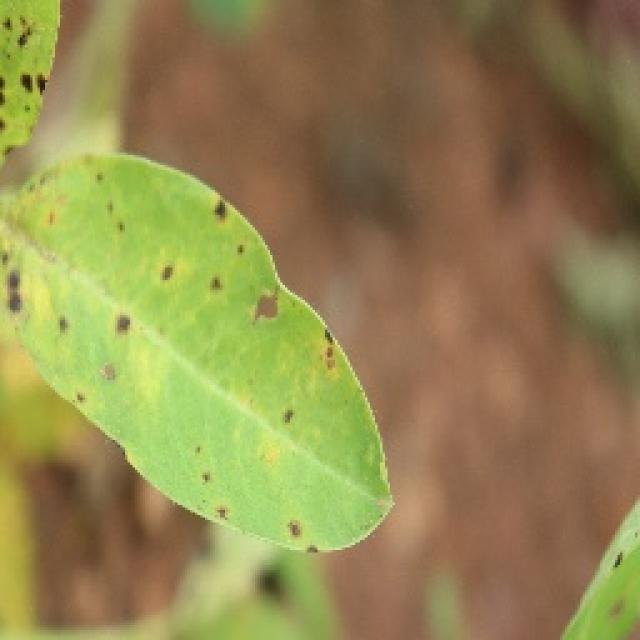Yellowish: (0, 113, 398, 562), (0, 0, 96, 162)
